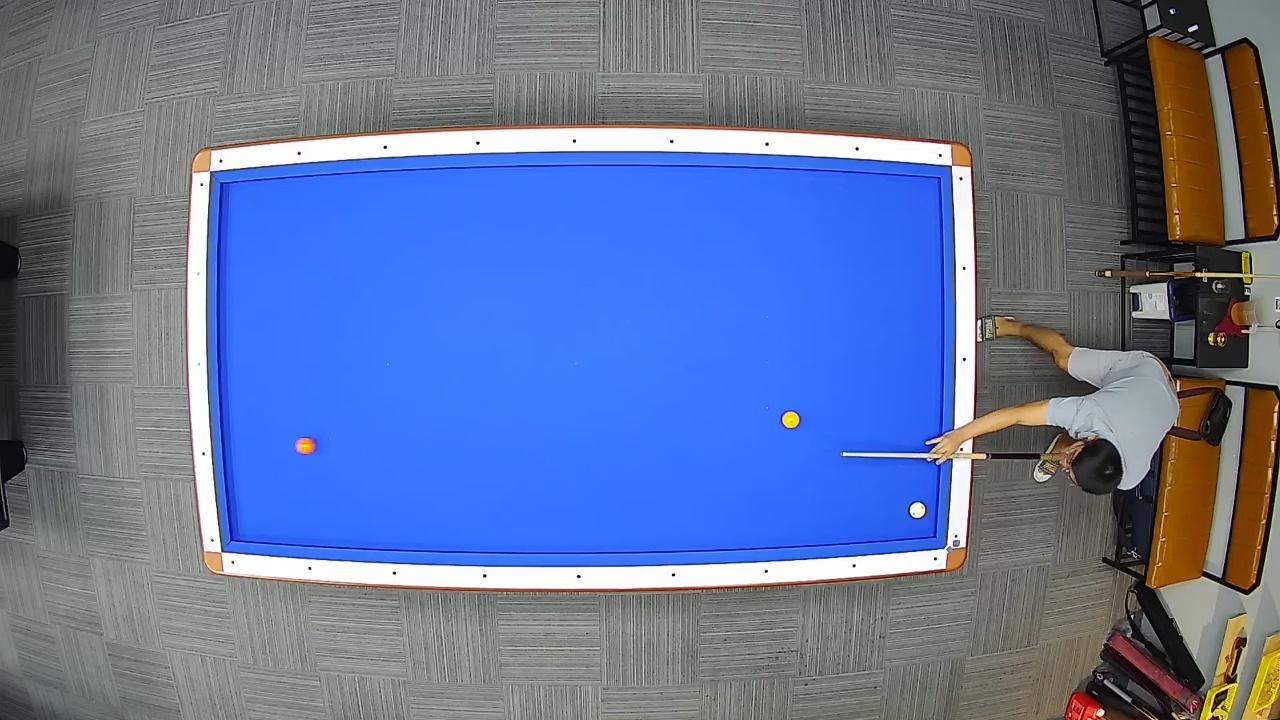Orange: (294, 438, 319, 458)
White: (909, 500, 928, 520)
Yellow: (780, 408, 804, 432)
